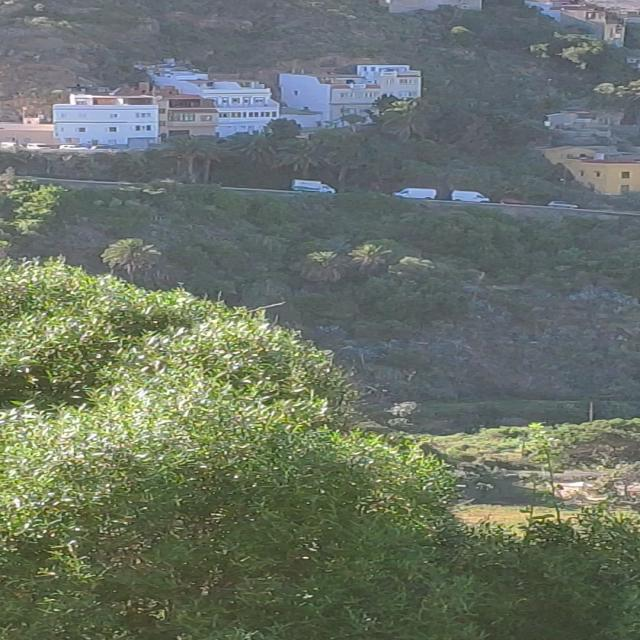Palm-Trees: (100, 236, 164, 278), (173, 134, 227, 182), (354, 243, 392, 276)
